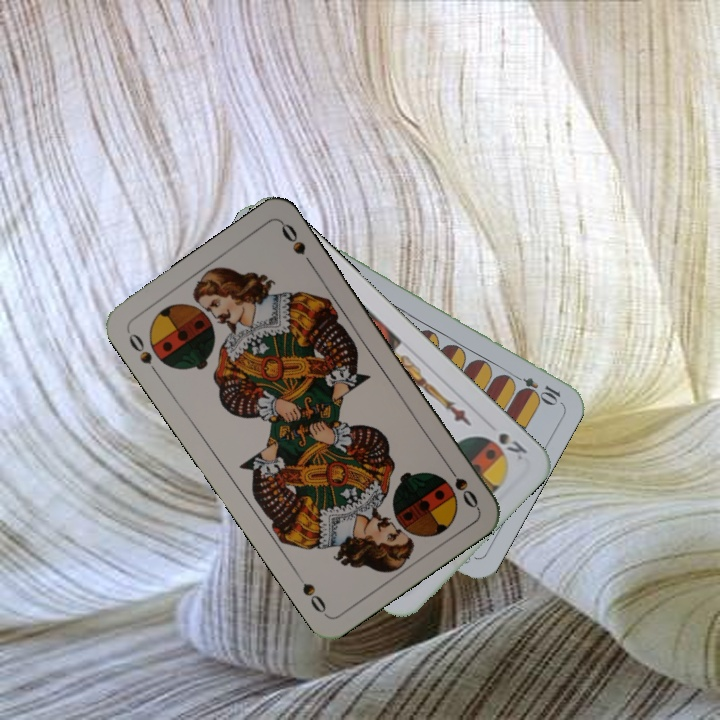E10: (507, 369, 563, 406)
SK: (494, 429, 530, 463)
SO: (441, 459, 481, 511), (123, 327, 162, 379)
